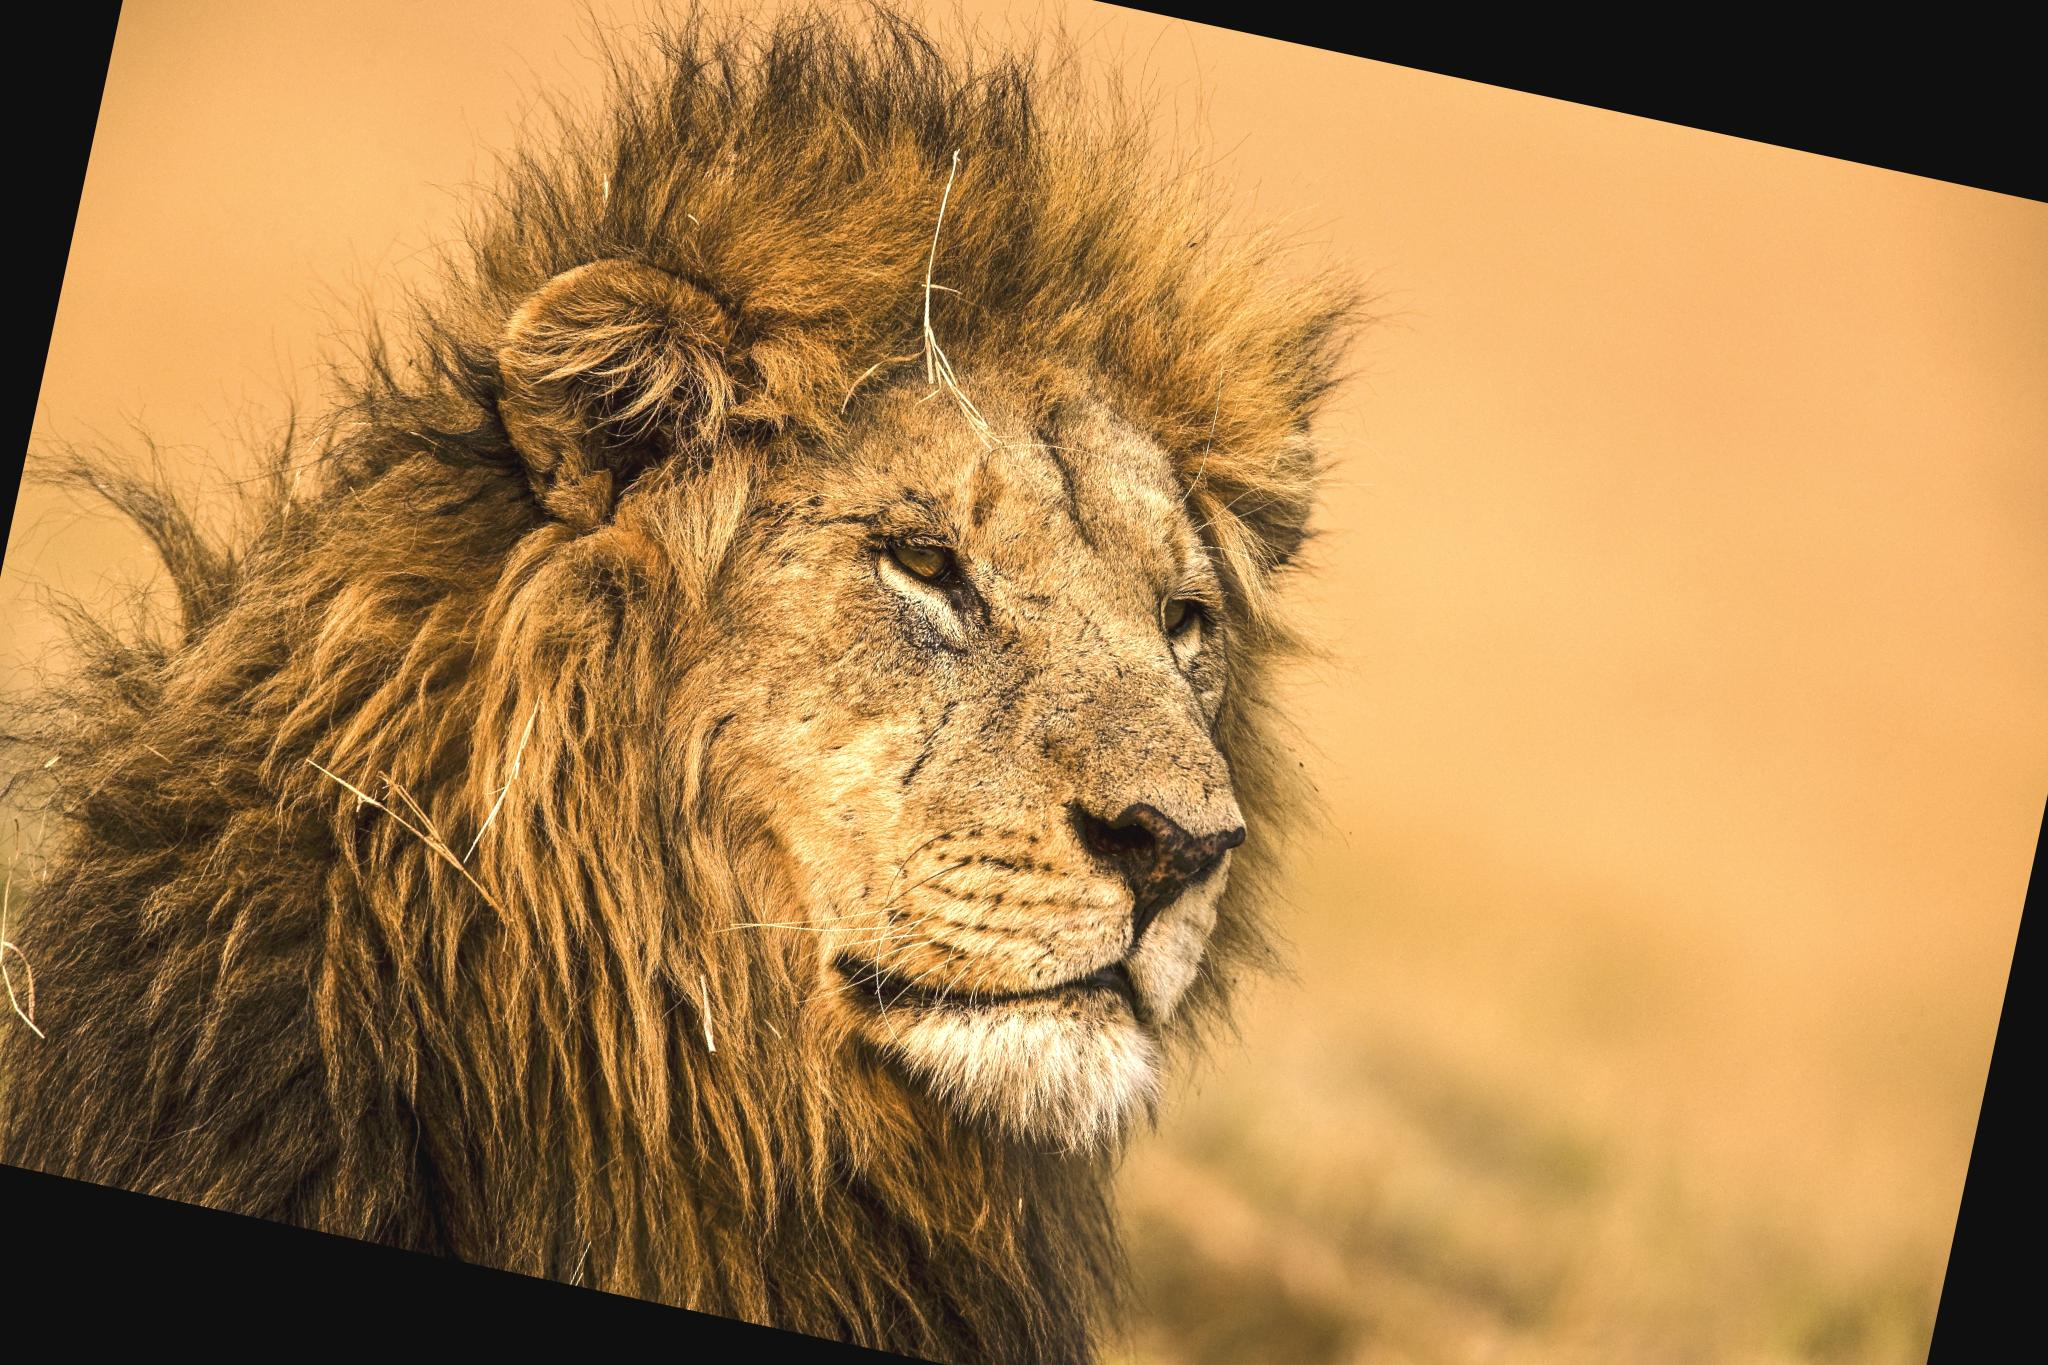lions: (0, 0, 1777, 1365)
